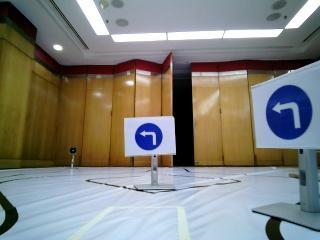left: (256, 83, 316, 141), (124, 116, 174, 156)
